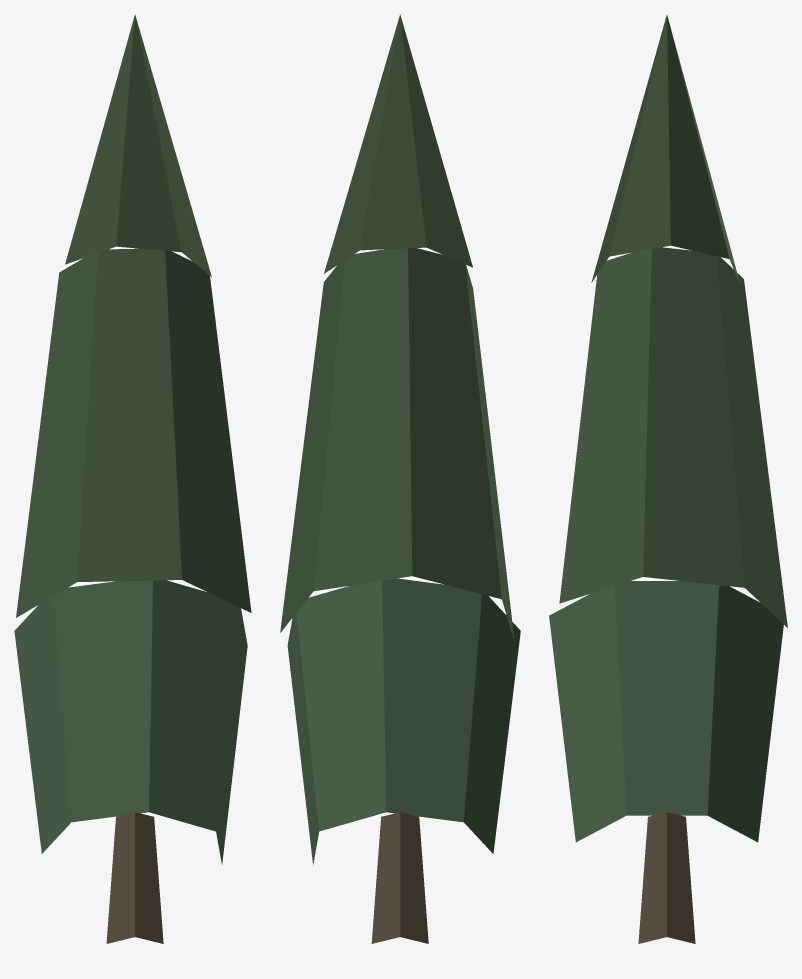
File: tree_med_cypress.glb
The picture shows the model from 3 angles, left to right: view 1: azimuth 30°, elevation 25°; view 2: azimuth 150°, elevation 25°; view 3: azimuth 270°, elevation 25°; orthographic projection.
Bounding box in the file's own units: 0.4357 × 1.88 × 0.4344.
